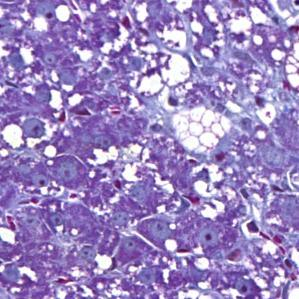ballooning: (169, 102, 235, 158)
